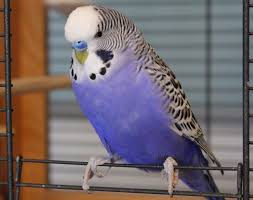budgie: (63, 5, 225, 200)
